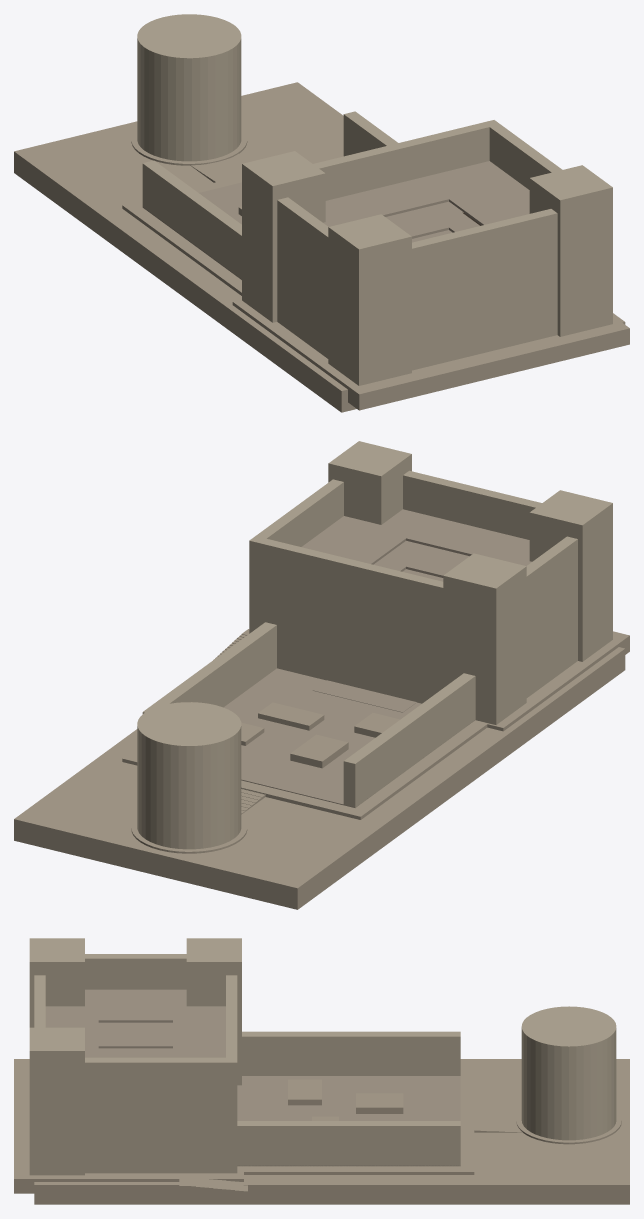
The model's file is castle_flat.glb.
3 views of the same model, one above another, from view 1: azimuth 30°, elevation 25°; view 2: azimuth 150°, elevation 25°; view 3: azimuth 270°, elevation 25° (orthographic). The views are drawn at different scales.
Parts seen in each view (by area): view 1: world; view 2: world; view 3: world.
Boxes of the visible parts, x1,y1,x2,y2 form: world: [14, 14, 629, 412]; world: [14, 441, 629, 909]; world: [14, 938, 629, 1204].
Size of the model in its own units: 46.1 by 23.95 by 91.
